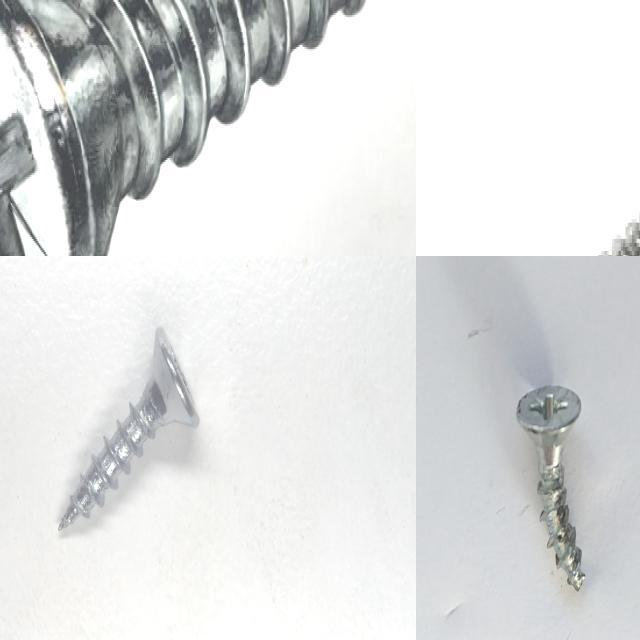Screw: (0, 0, 366, 256), (59, 326, 199, 529), (517, 385, 585, 591)
